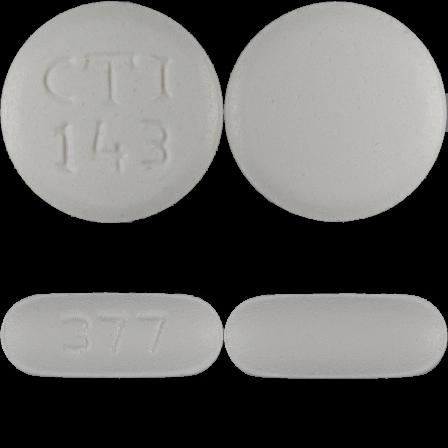60760-372: (0, 0, 224, 224)
